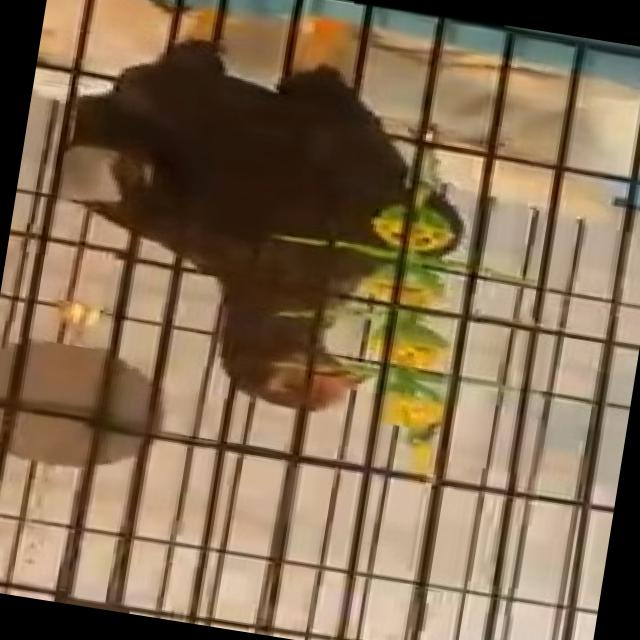Breathing: (60, 0, 490, 439)
